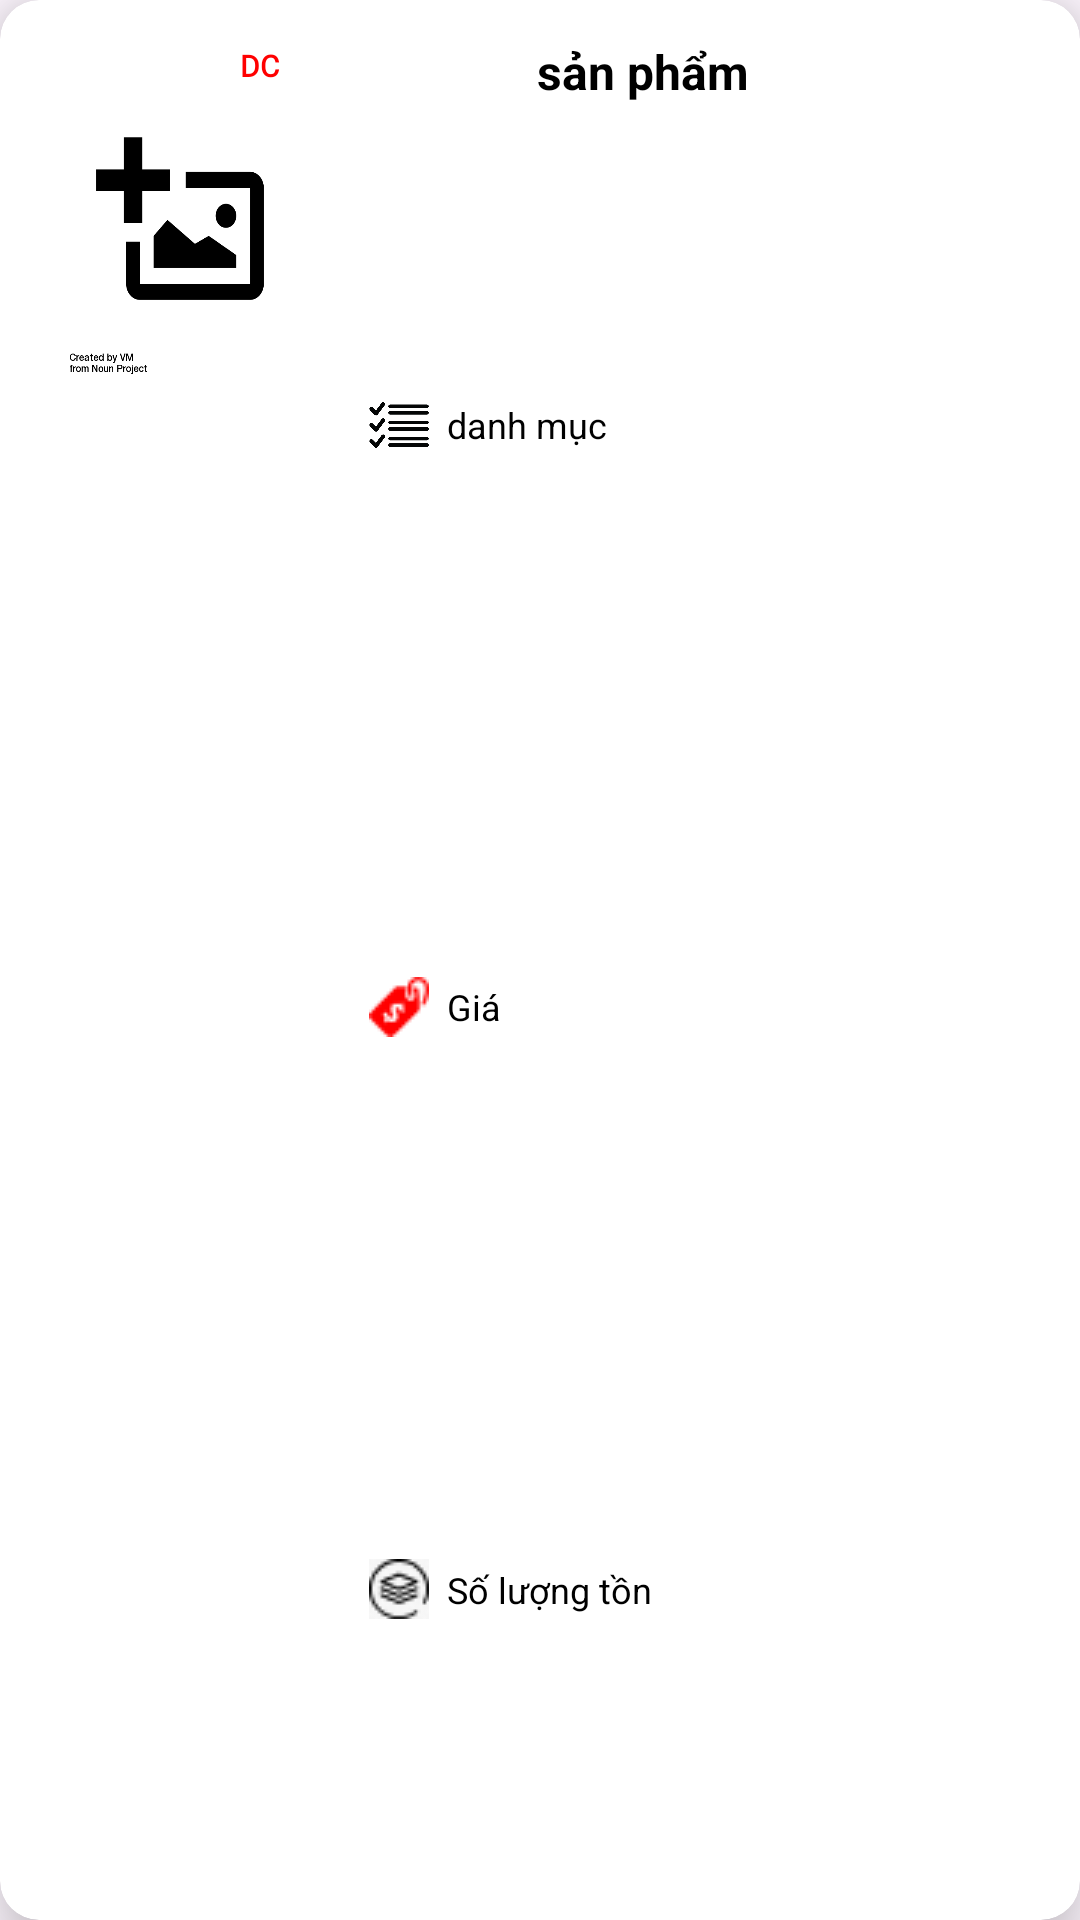

Where icons sit on this 1080x1920 app screen, as (x1, y1, x2, y2):
add: (70, 137, 264, 374)
category: (369, 402, 429, 448)
price: (369, 977, 429, 1037)
quantity: (369, 1559, 429, 1619)
